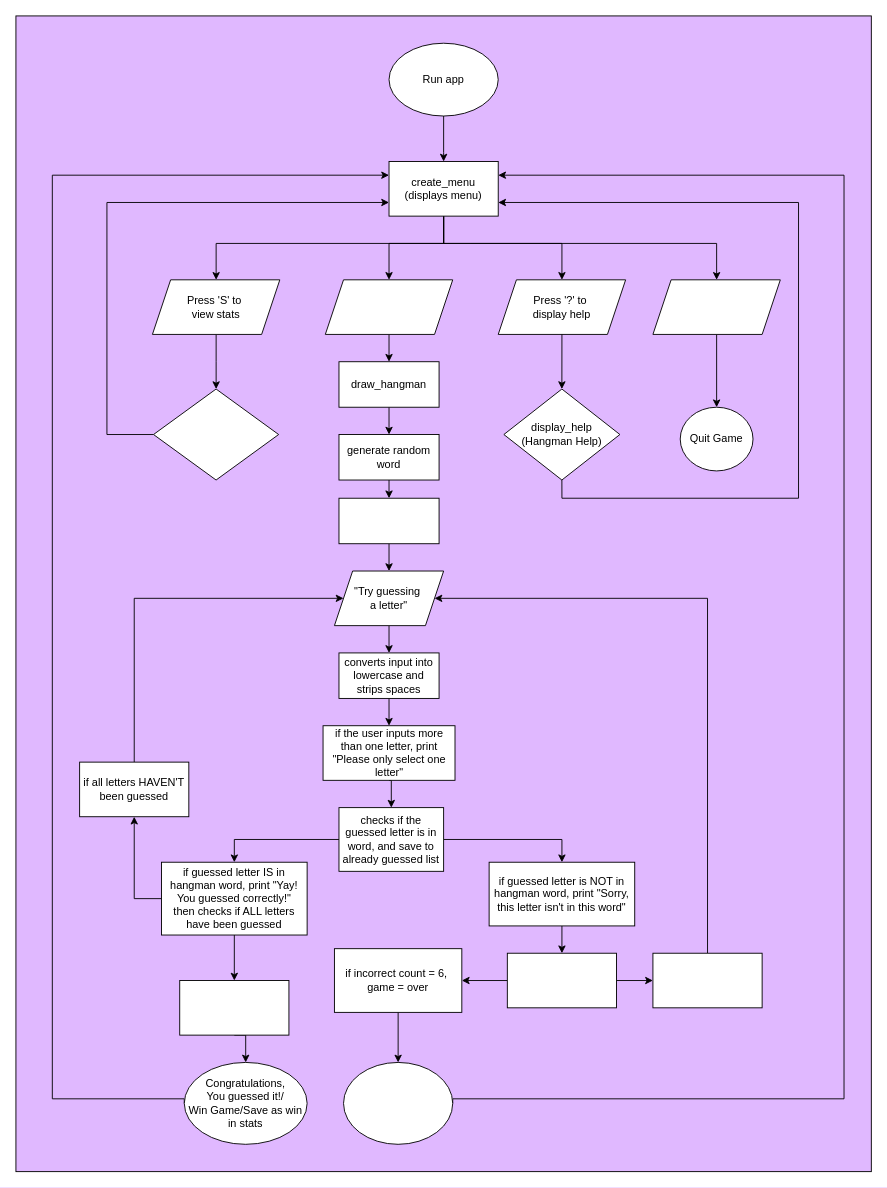
Image size: 887x1188. Some labels were removed from this diagram. The centre of each missing label's shape, as x and y in pixels:
convert random word into underscores: point 388,520
display_stats (View Stats / load stats): point 216,434
Game Over/ Print Game over message/Save as loss in stats: point 398,1103
if all letters HAVE been guessed: point 234,1007
if incorrect guess count does NOT = 6: point 707,980
Press 'Q' to quit game: point 716,306
Press 'Space' to start game: point 388,306
update hangman drawing and +1 to incorrect guess count: point 561,980
